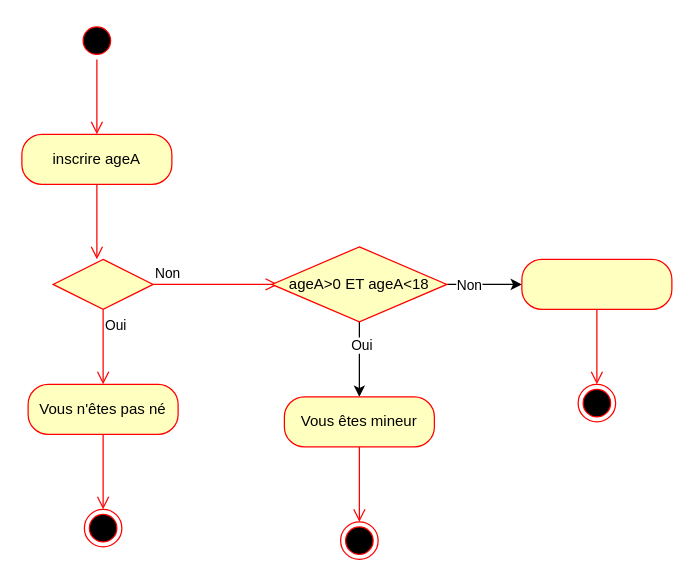
Image size: 694x581. Some labels were removed from this diagram. Here are the shapes that lost their labels. From the top down, the centre of each, then its label:
the point at 102,283: ageA < 0
the point at 596,283: Vous êtes majeur
